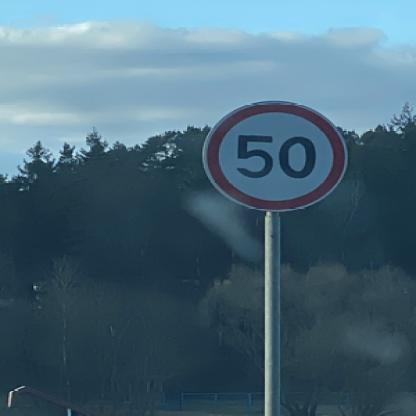speedlimit: (201, 99, 345, 210)
